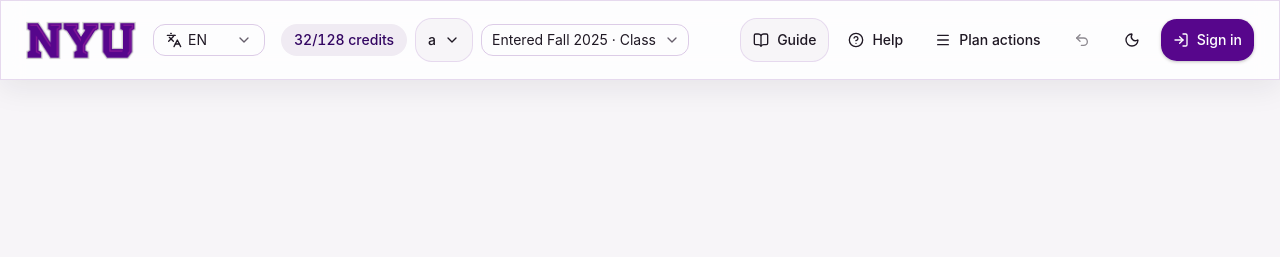
PlannerHeader › offers reporting and report history from Help
Click the button "Help".
click(876, 40)  # box [835, 18, 916, 62]
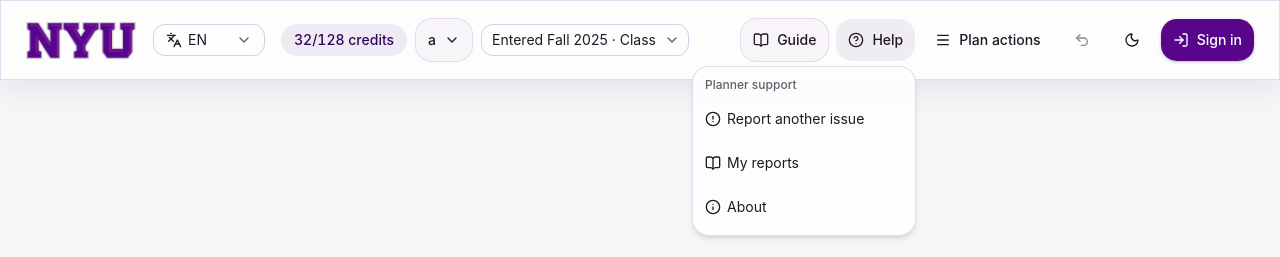
Expected: the menu item "Report another issue" is shown, [705, 110, 864, 127]
Expected: the menu item "My reports" is shown, [705, 154, 799, 171]
